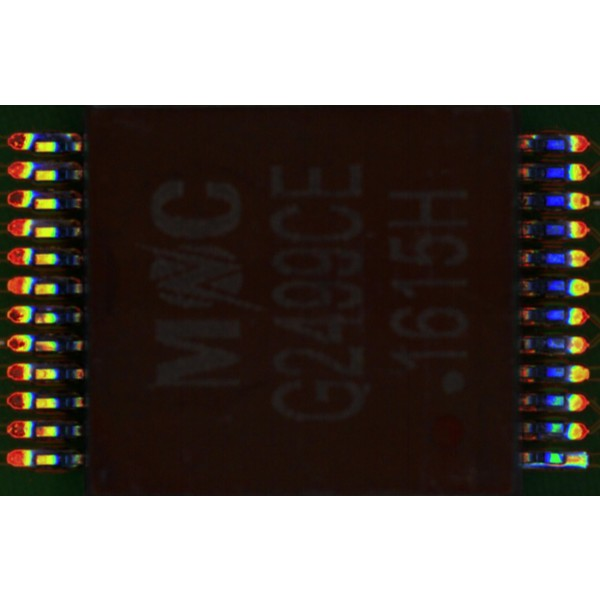Bad_podu: (523, 462, 561, 467)
Bad_qiaojiao: (554, 454, 576, 464)
